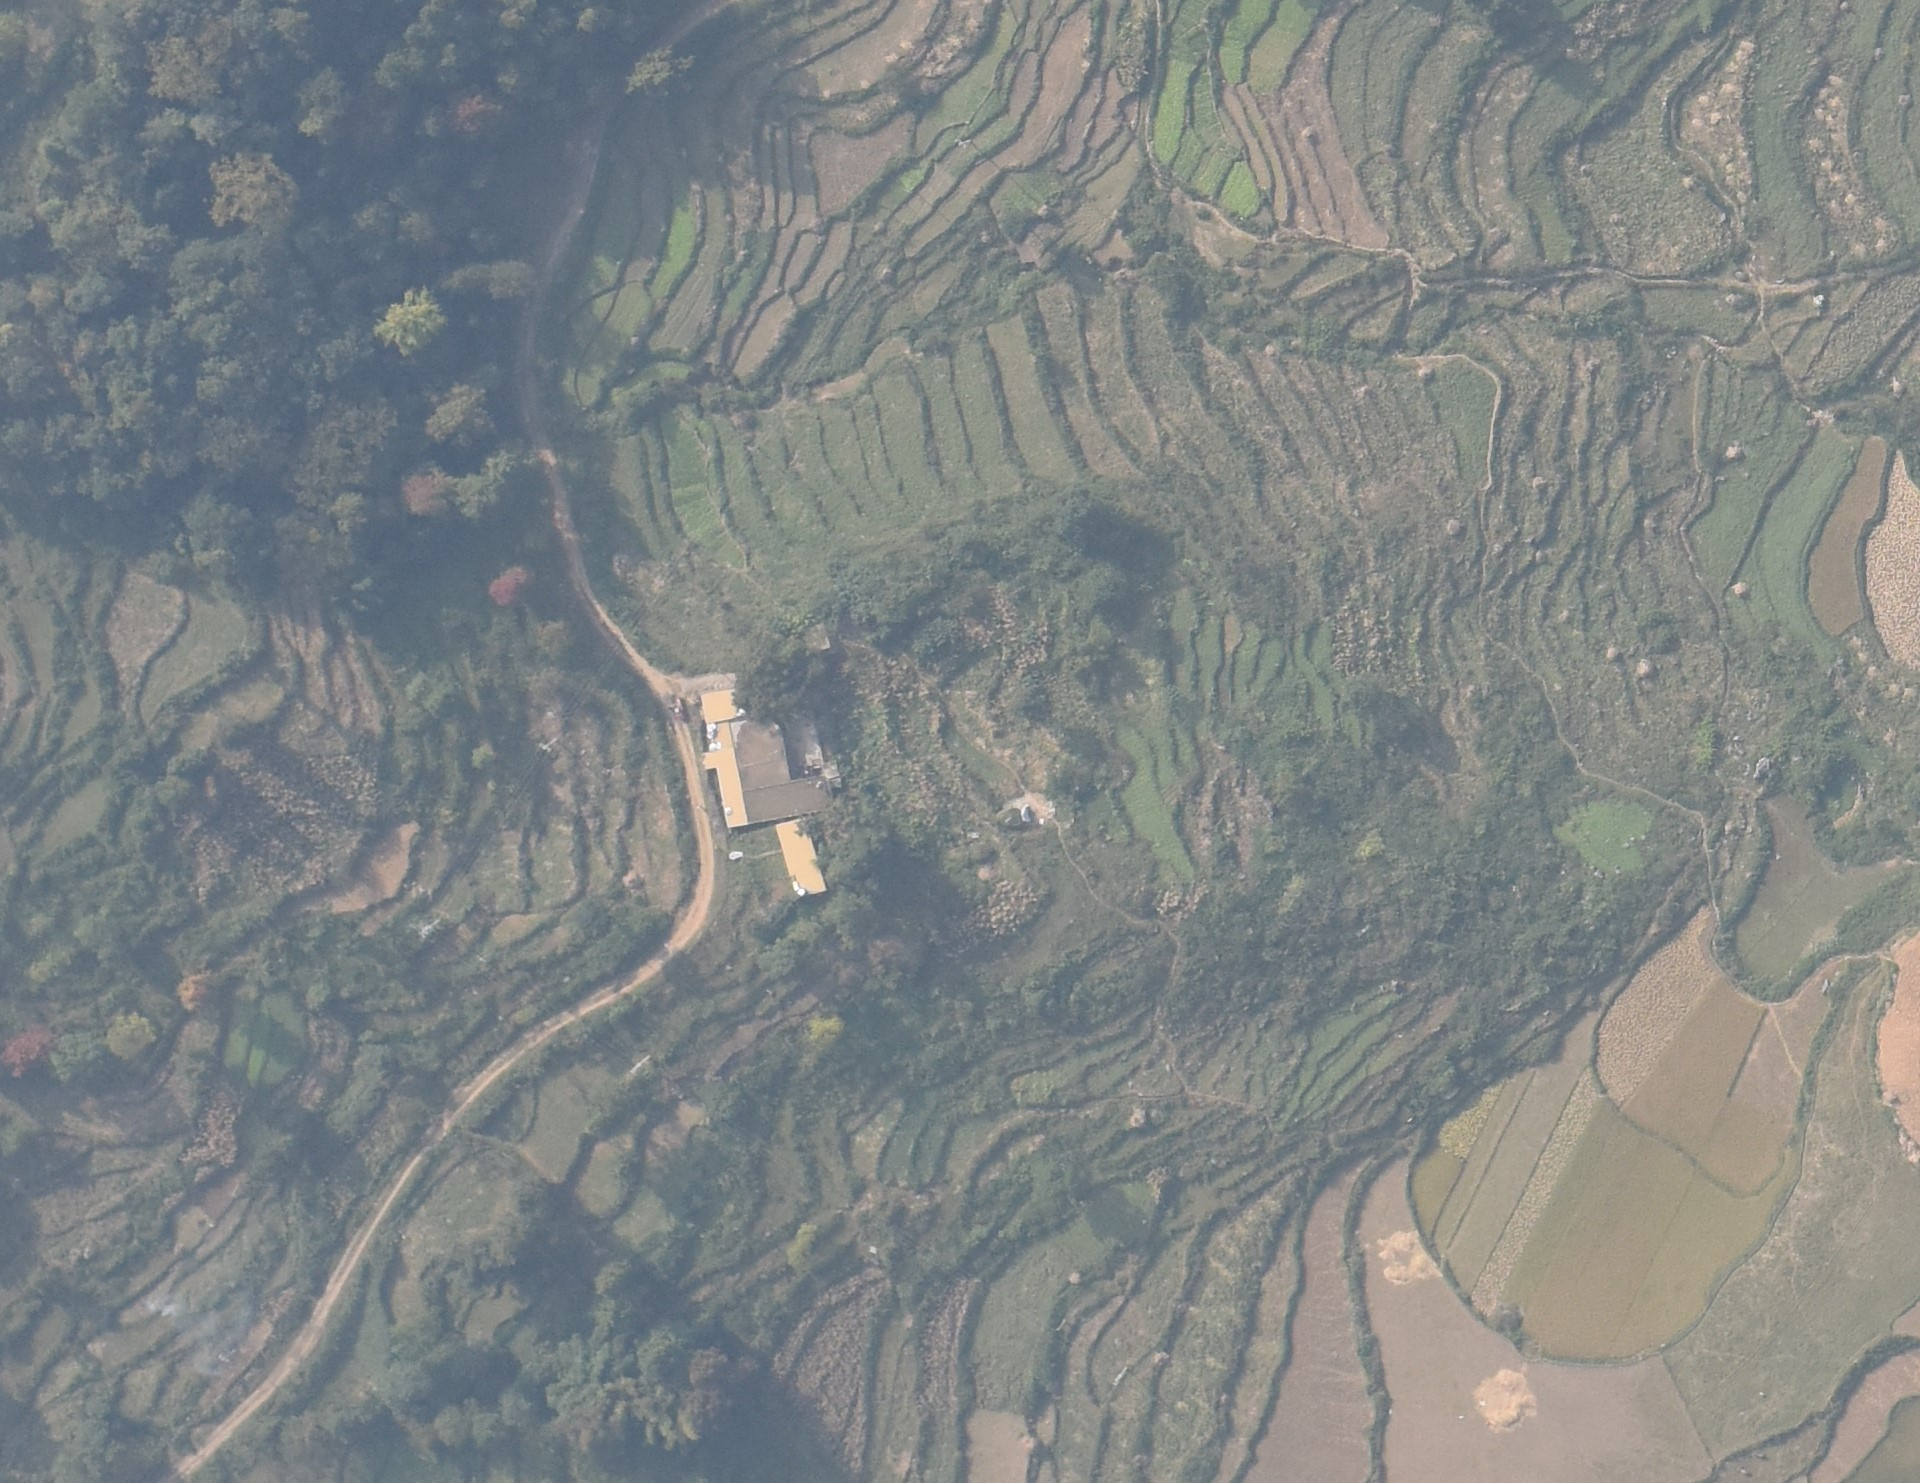building: (695, 684, 836, 826), (775, 818, 827, 893)
cable-tower: (417, 919, 441, 942), (631, 1055, 649, 1075), (537, 735, 557, 752), (1112, 1366, 1127, 1386), (1054, 1316, 1067, 1333), (955, 137, 972, 150), (230, 1179, 241, 1198)
vehicle: (668, 693, 685, 721)
